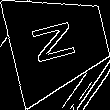N_E: (31, 17, 86, 69)
